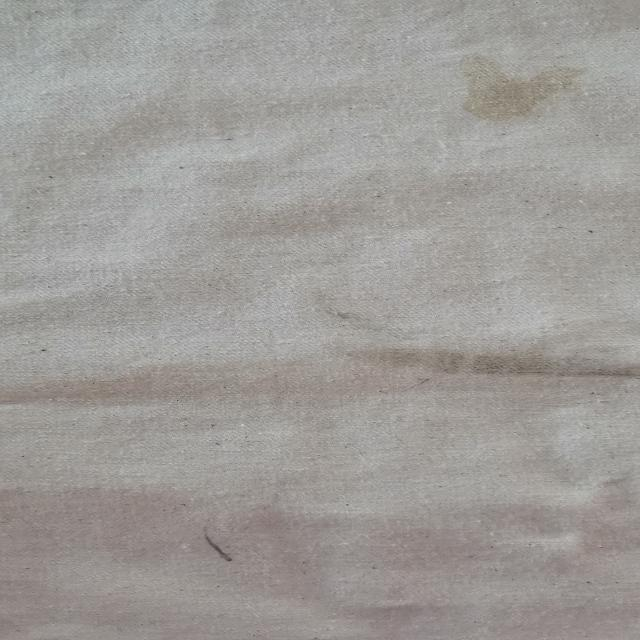taaaches: (328, 332, 640, 393), (438, 41, 602, 138), (294, 278, 400, 326), (192, 528, 250, 573)
